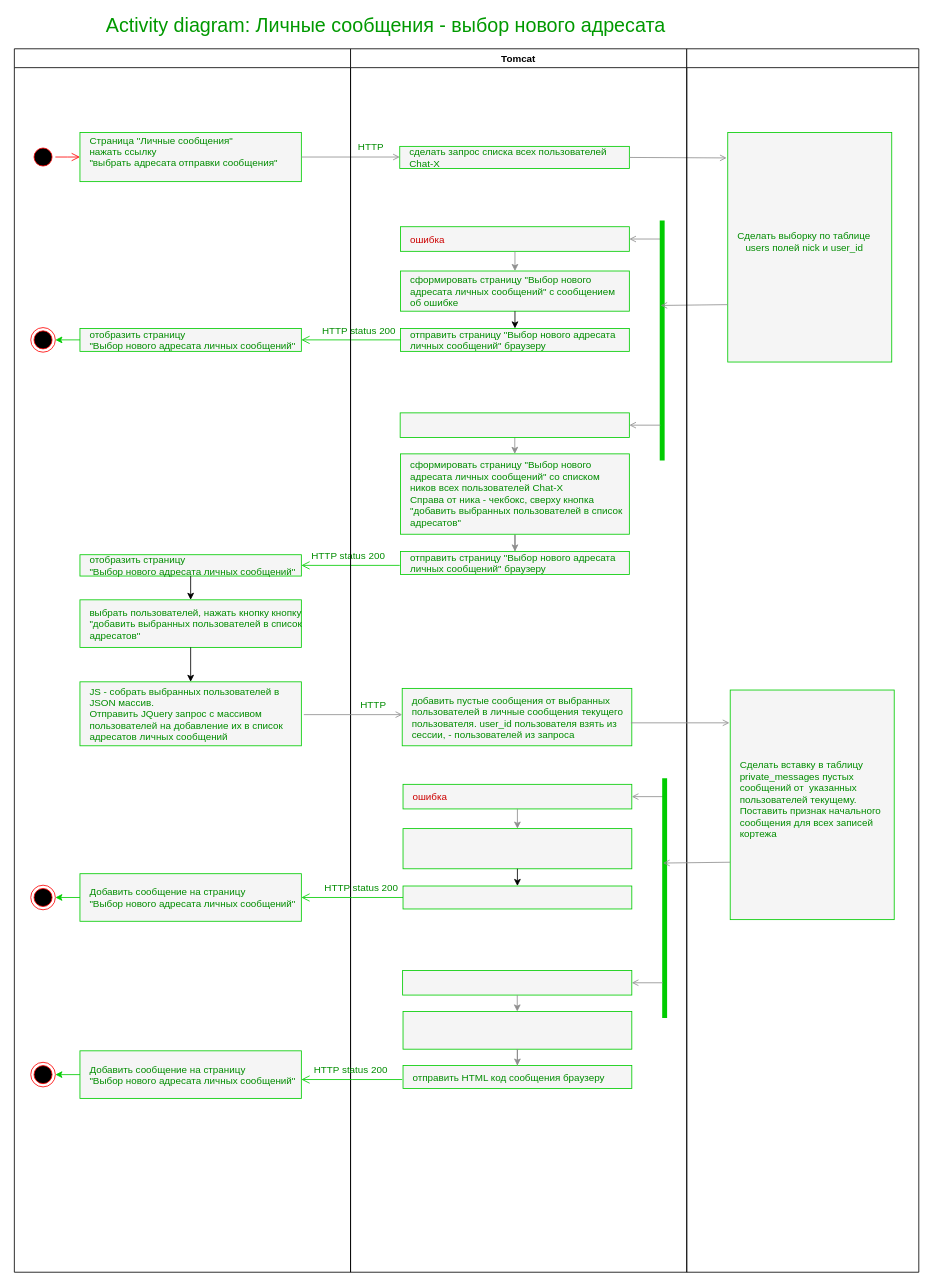
The diagram is 933 pixels wide and 1287 high, and some of its shapes have lost their labels. The shapes that lost their labels are listed below. From the top down, each one's box as (x1, y1, x2, y2) in pixels, then its label:
(399, 412, 629, 437): получили список пользователей
(14, 48, 351, 1272): Браузер
(686, 48, 919, 1272): PostgreSQL
(402, 828, 632, 869): сформировать HTML код сообщения об ошибке
(402, 885, 632, 909): отправить HTML код сообщения об ошибке браузеру
(402, 970, 632, 995): успешно добавили начальные письма
(402, 1011, 632, 1049): сформировать HTML код сообщения об успешной операции
